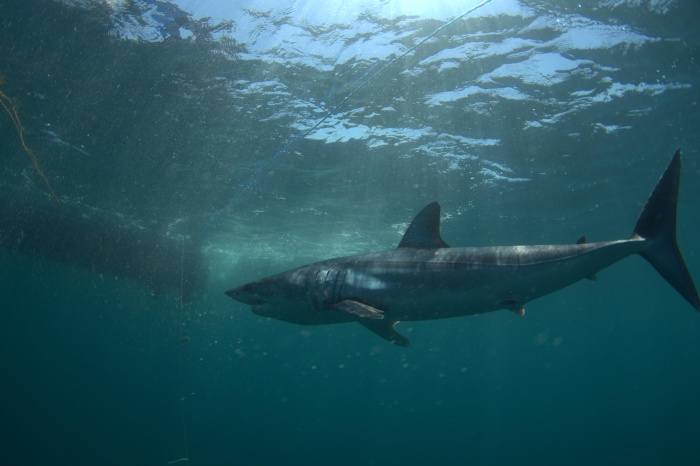Mako: (223, 143, 700, 351)
